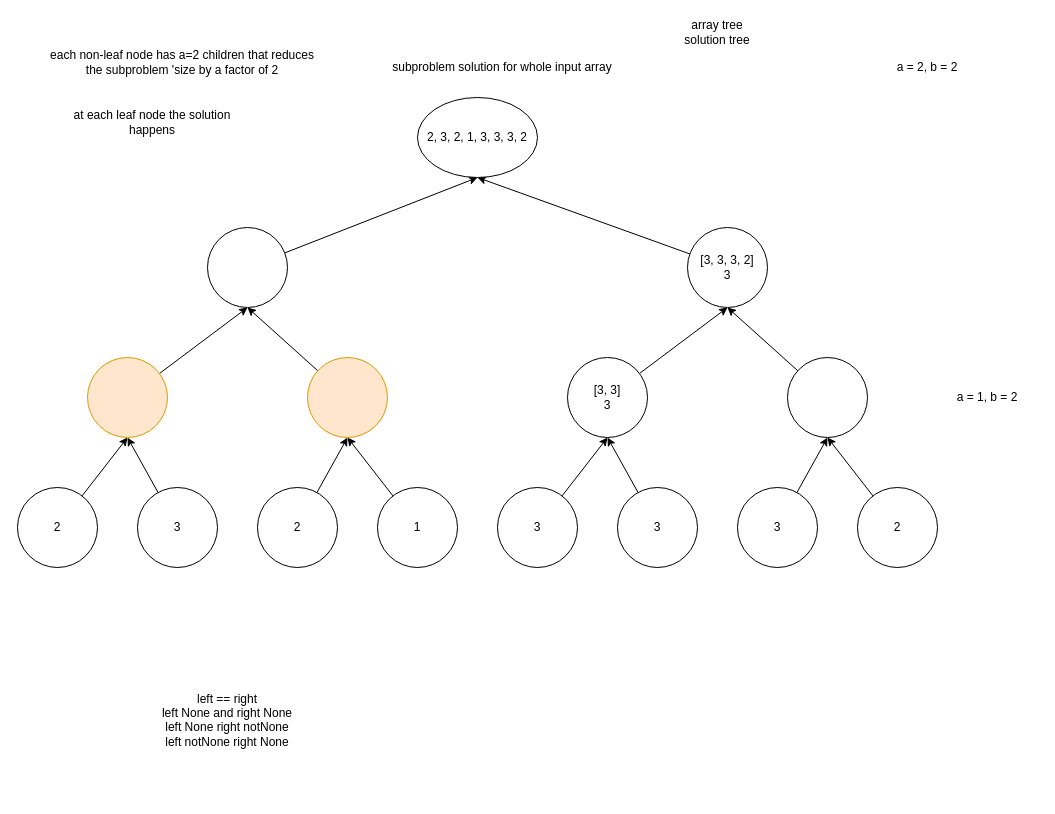
The diagram is 1055 pixels wide and 814 high, and some of its shapes have lost their labels. Each missing label, with the centre of its shape:
"[2, 1] None" goes at pixel 347 397.
"[2, 3, 2, 1] None" goes at pixel 247 267.
"[2, 3] None" goes at pixel 127 397.
"[3, 2] None" goes at pixel 827 397.
